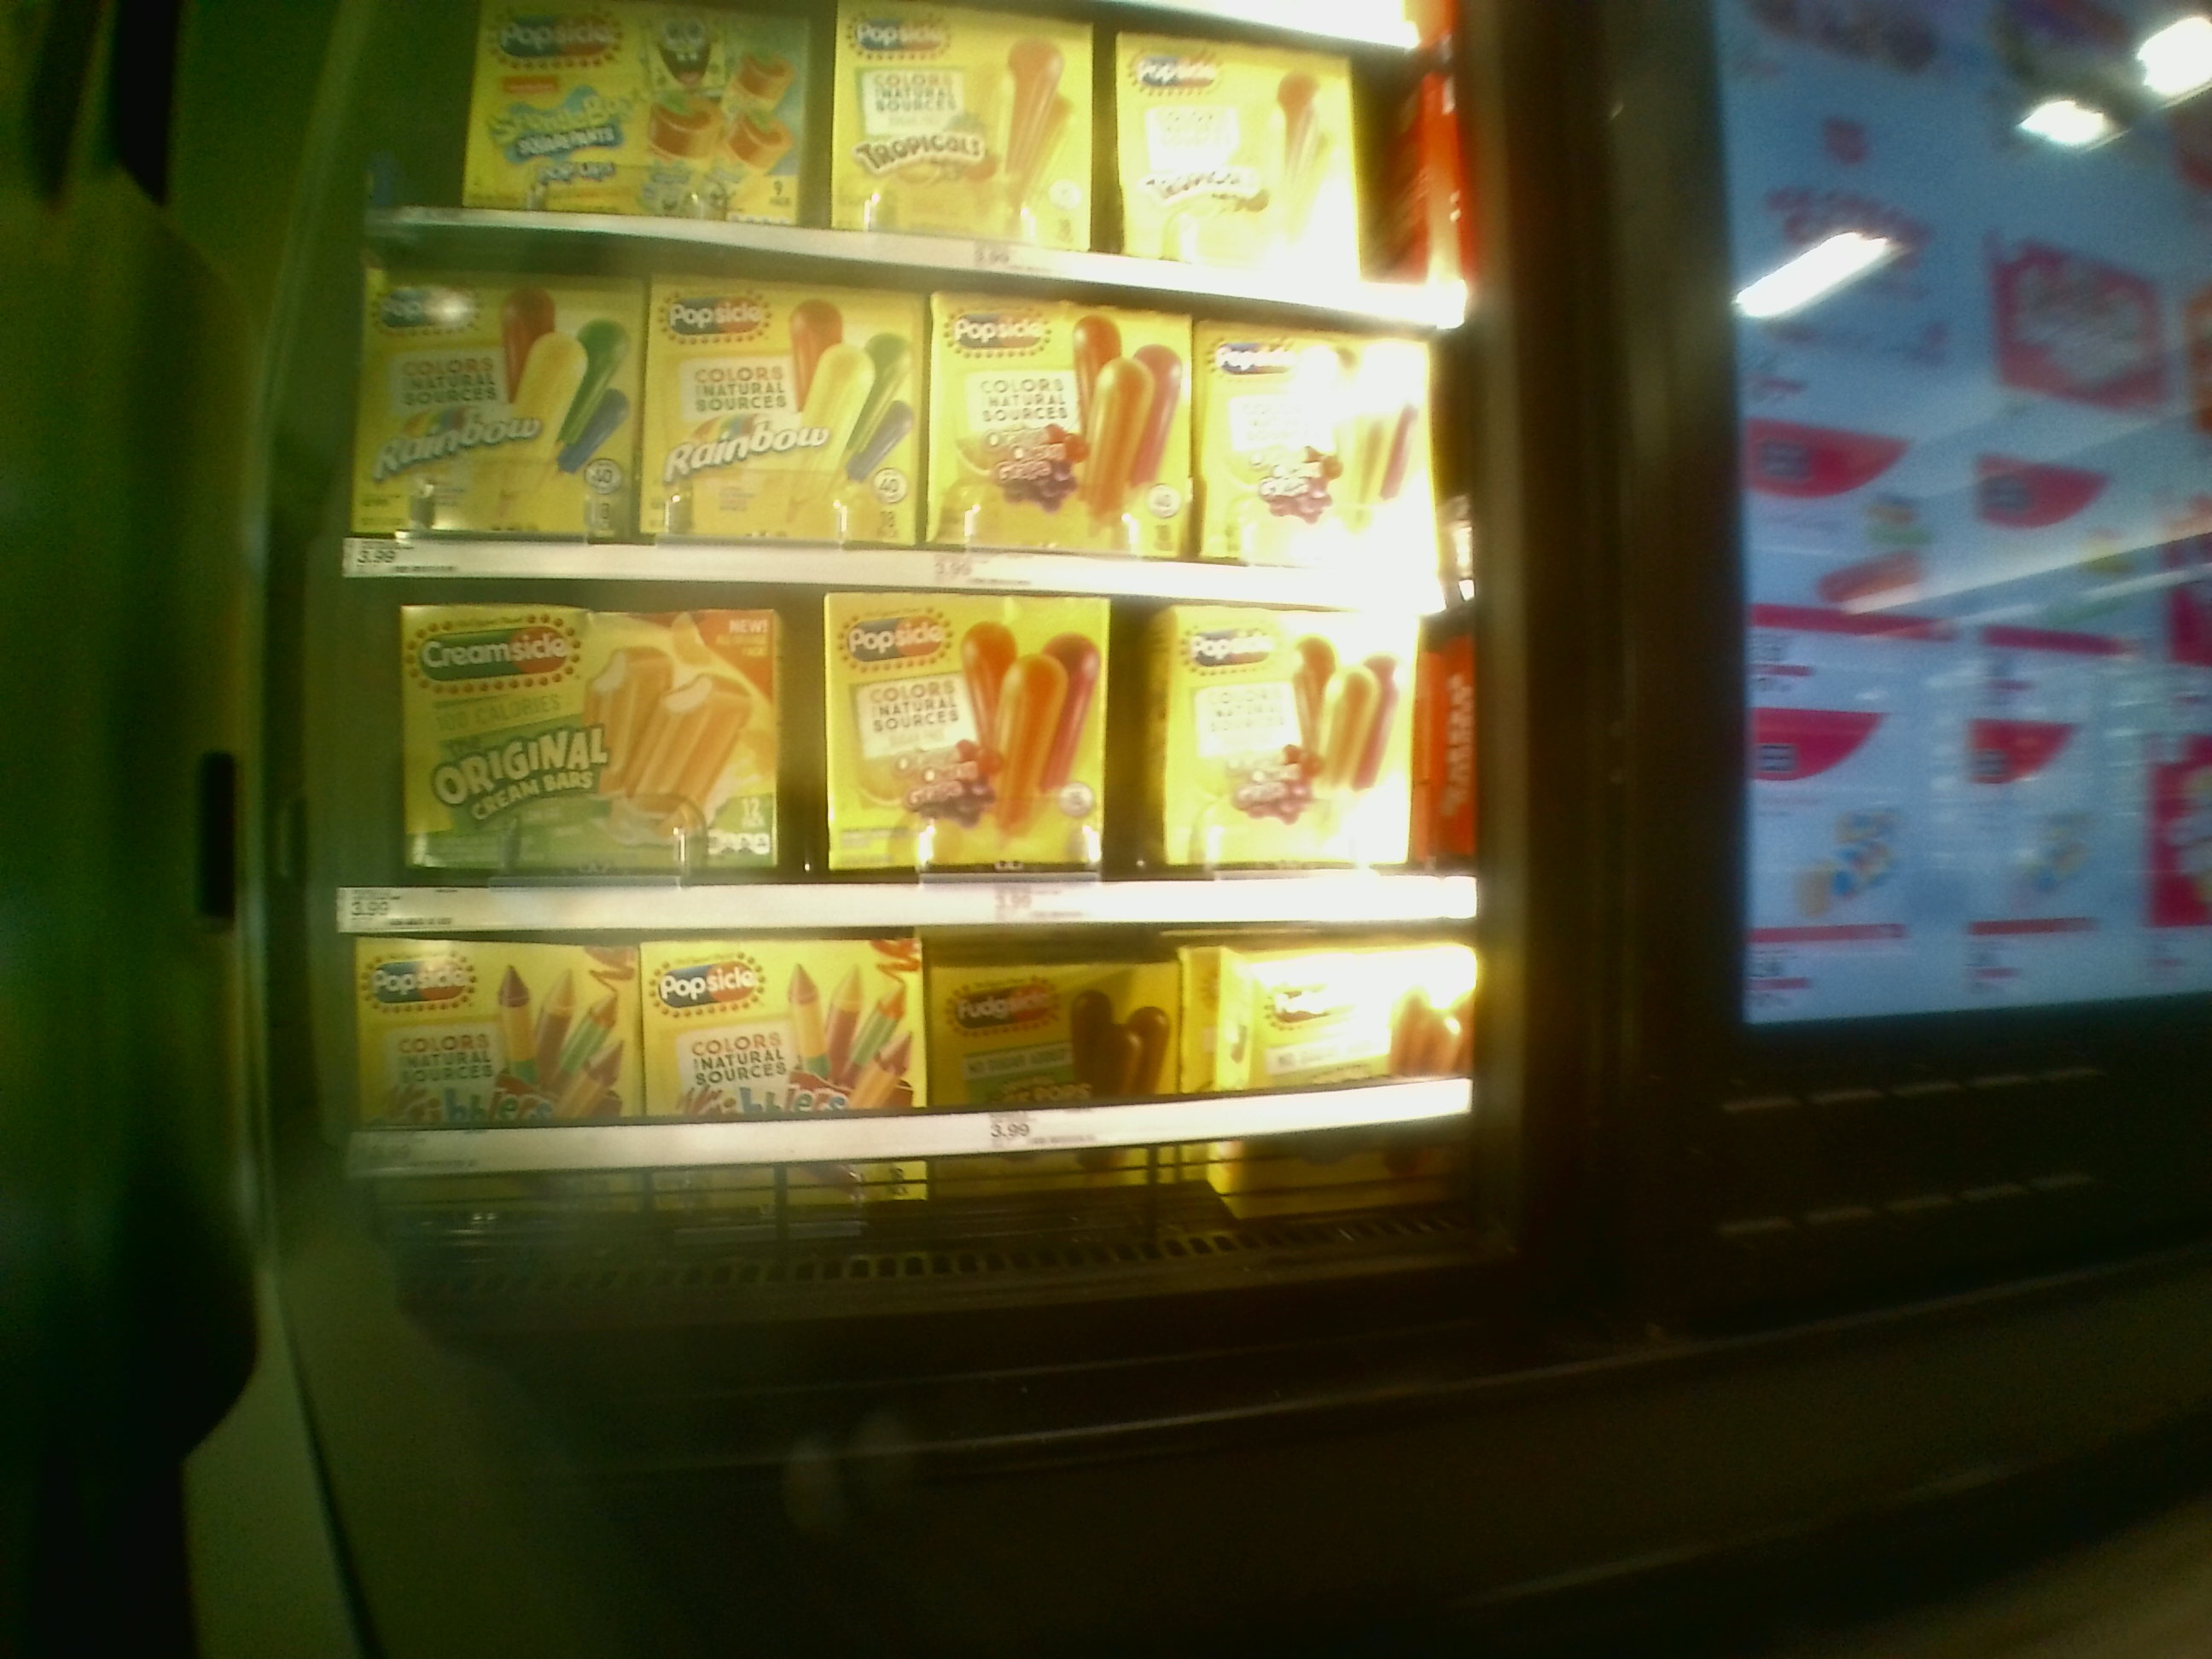shelf: (336, 580, 1465, 924), (336, 925, 1474, 1209)
